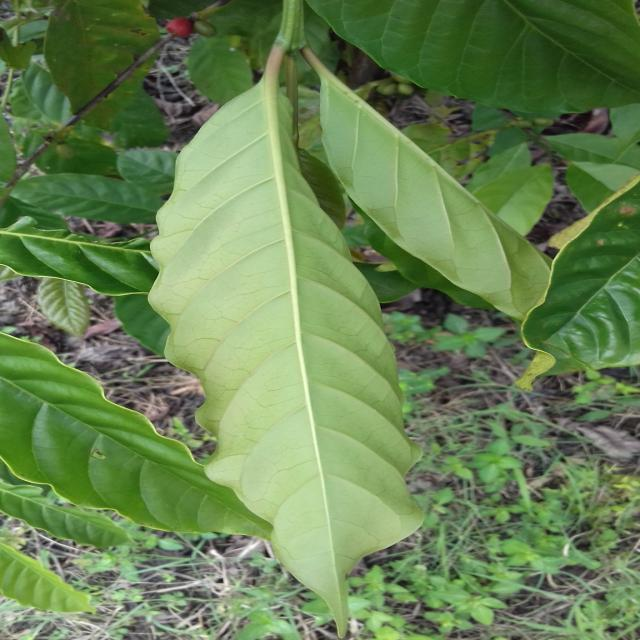Sanas: (122, 44, 427, 628)
